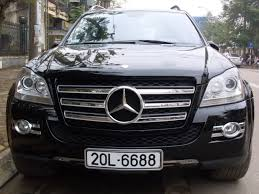Car number plates: (85, 150, 161, 169)
